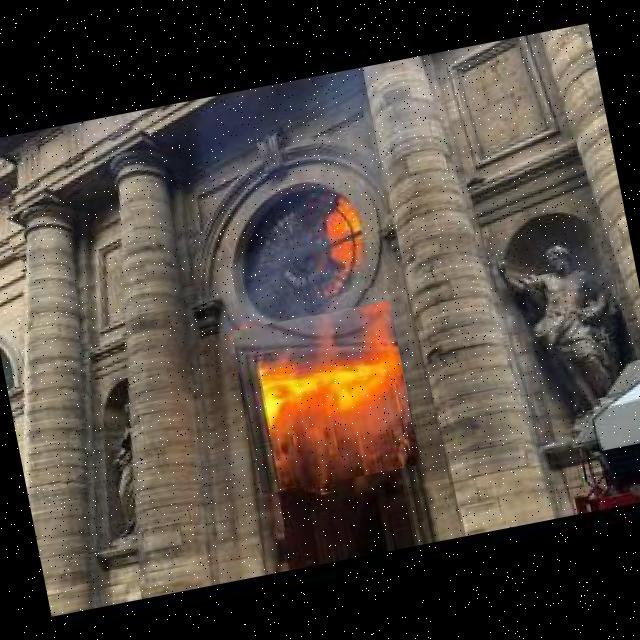fire: (232, 300, 422, 495), (277, 185, 397, 302)
